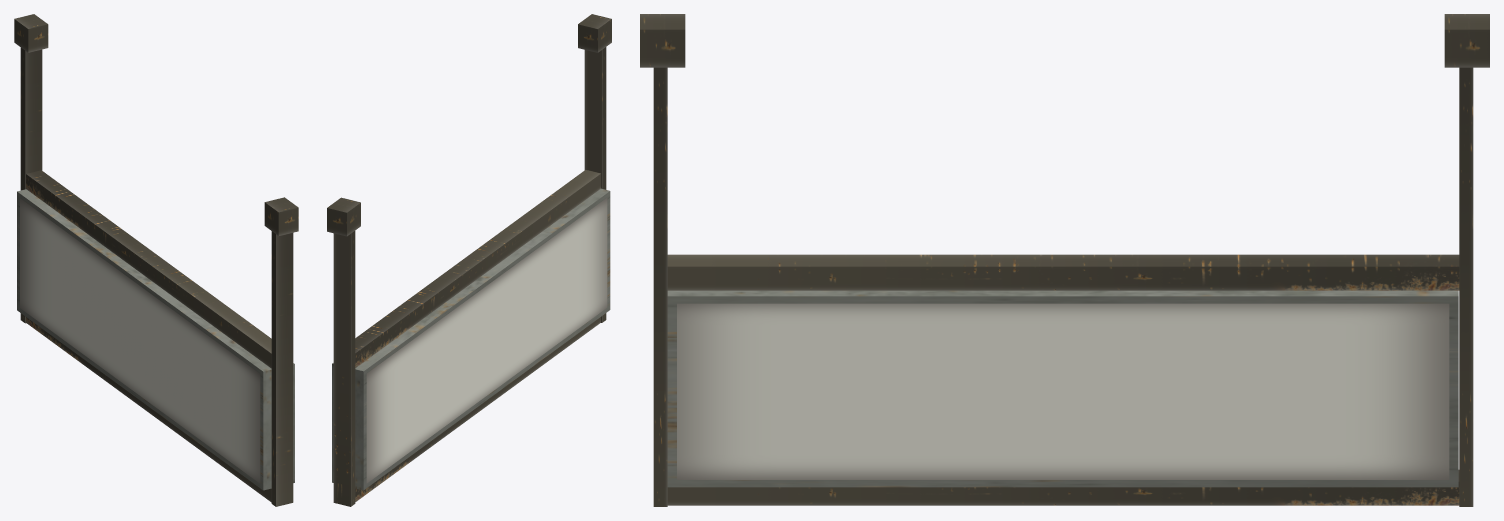
The model's file is raincover06d.fbx.
The picture shows the model from 3 angles, left to right: view 1: azimuth 30°, elevation 25°; view 2: azimuth 150°, elevation 25°; view 3: azimuth 270°, elevation 25°; orthographic projection. The views are drawn at different scales.
Visible parts, largest first — view 1: raincover06d; view 2: raincover06d; view 3: raincover06d.
Part boxes in pixels (x1,y1,x2,y2): raincover06d: (14, 14, 298, 506); raincover06d: (327, 14, 611, 506); raincover06d: (640, 14, 1489, 506).
Bounding box in the file's own units: 30.21 × 272 × 438.
